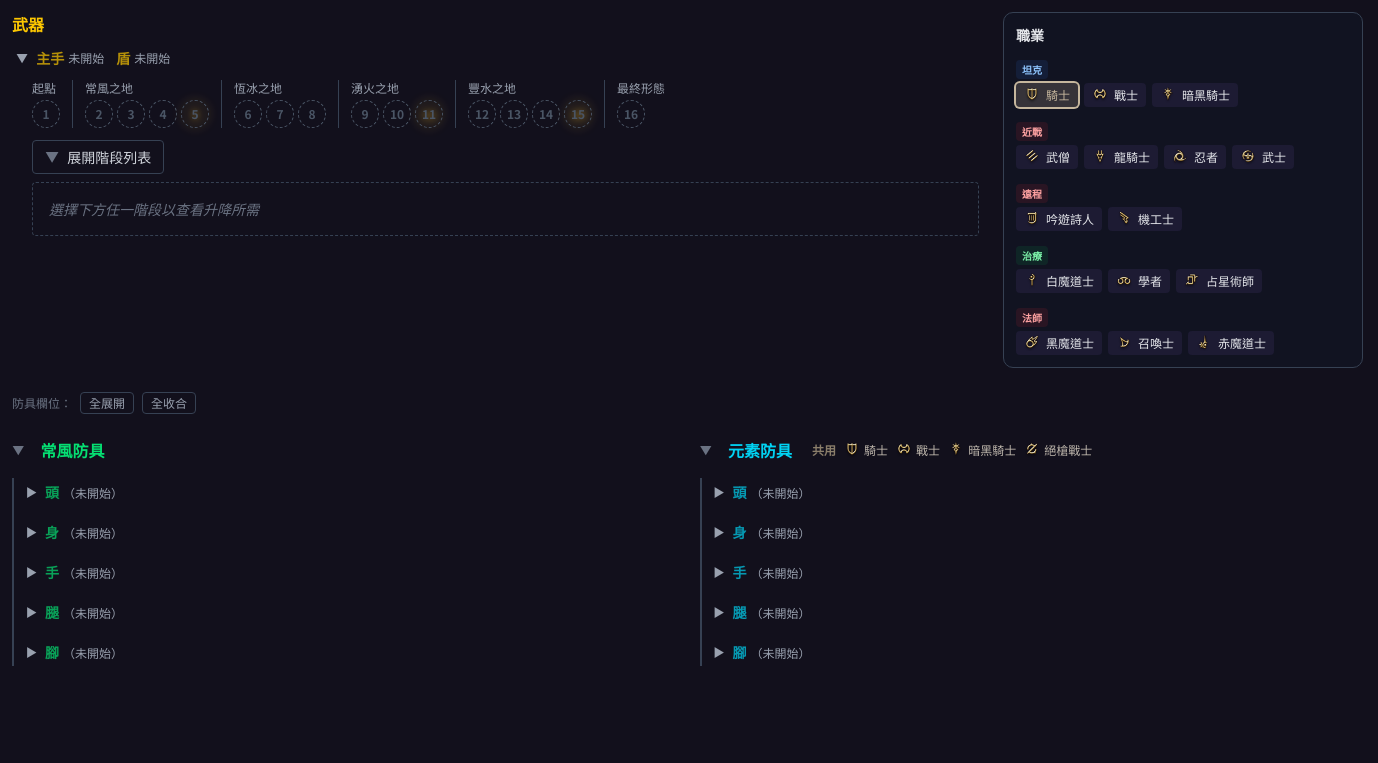
DetailTab › armor accordion › clicking 身 header expands that slot in its track
The width and height of the screenshot is (1378, 763).
Click the 1st button "▶ 身（未開始）": (93,532) top-left (22, 518), bottom-right (676, 546)
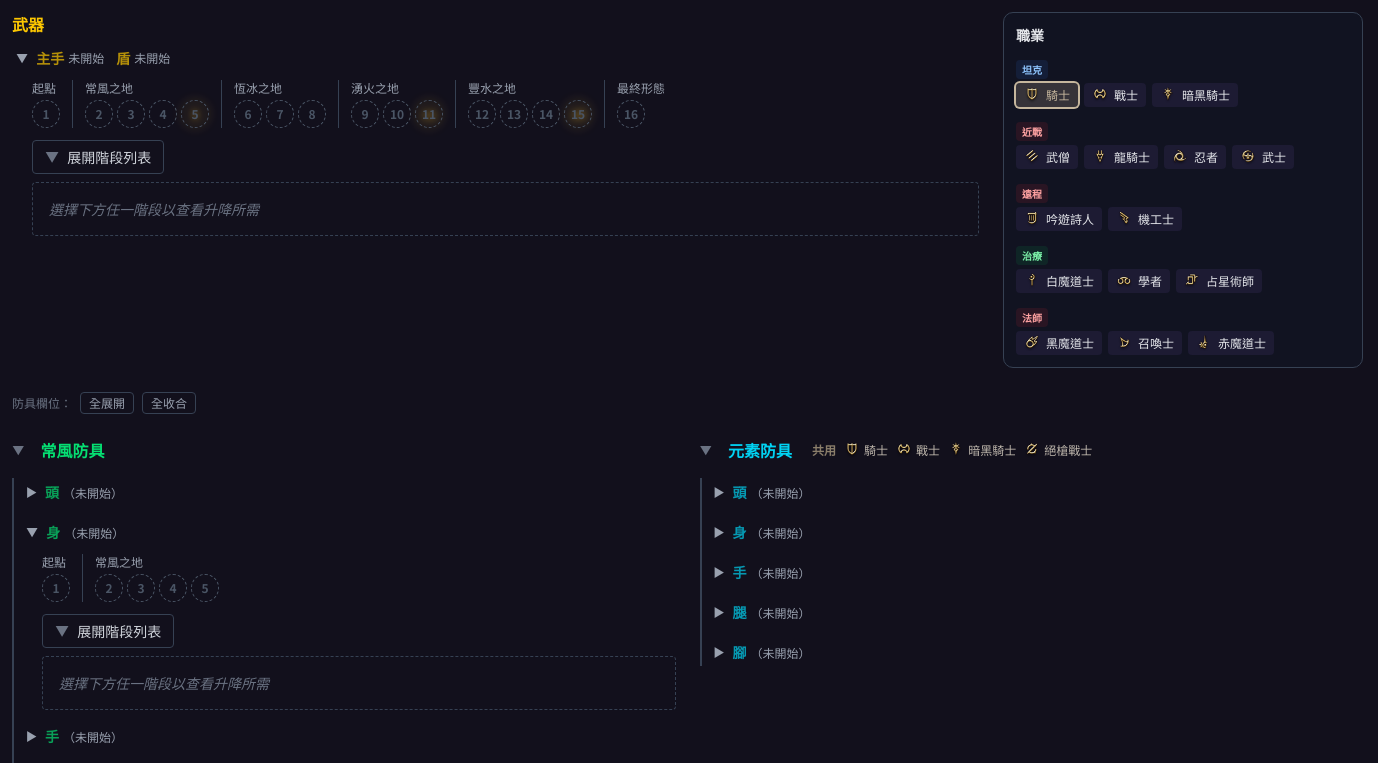
Expected: the button "▼ 身（未開始）" is expanded, top-left (22, 518), bottom-right (676, 546)
